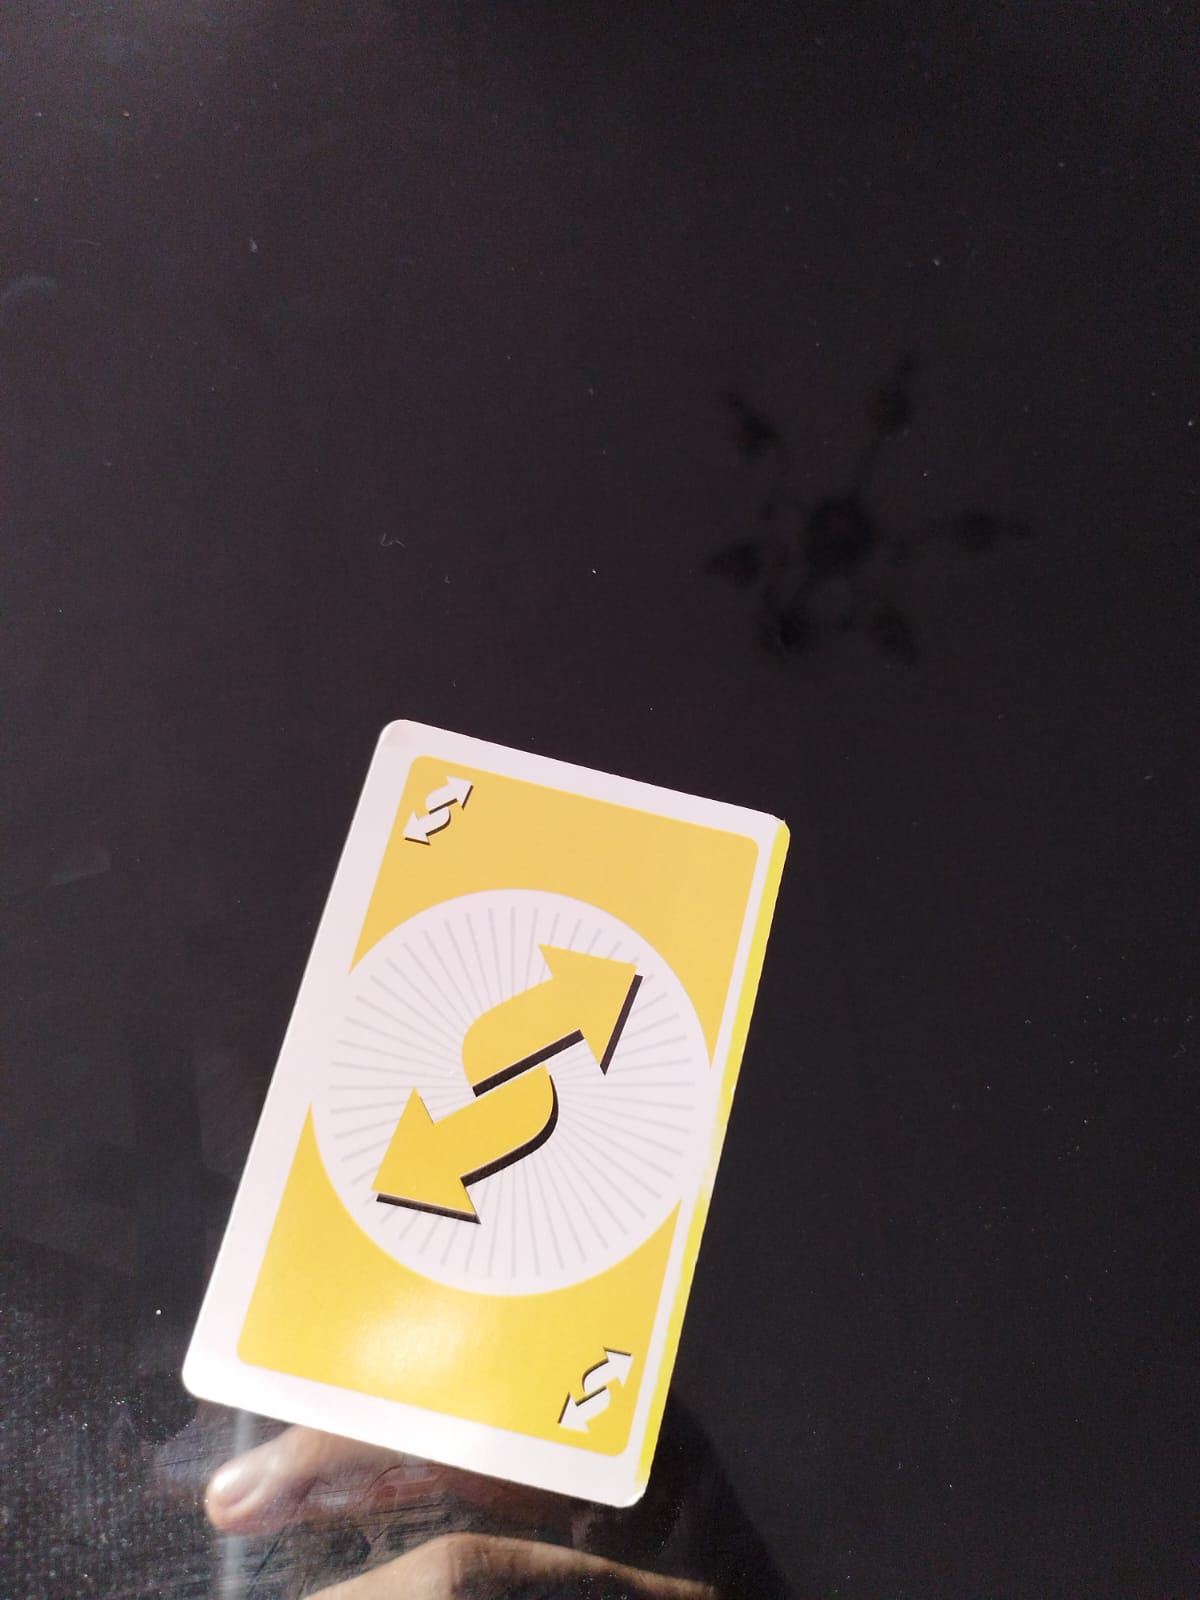6_red: (364, 929, 658, 1218), (509, 1328, 658, 1446), (387, 763, 494, 859)
